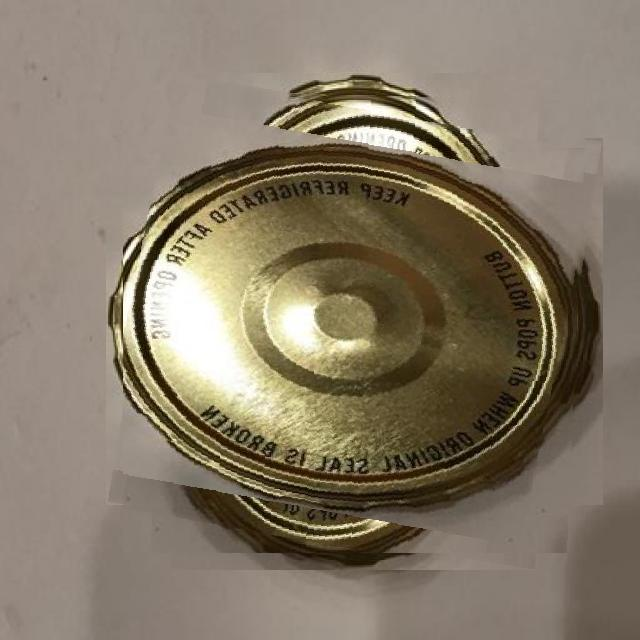recyclable: (123, 90, 587, 553)
